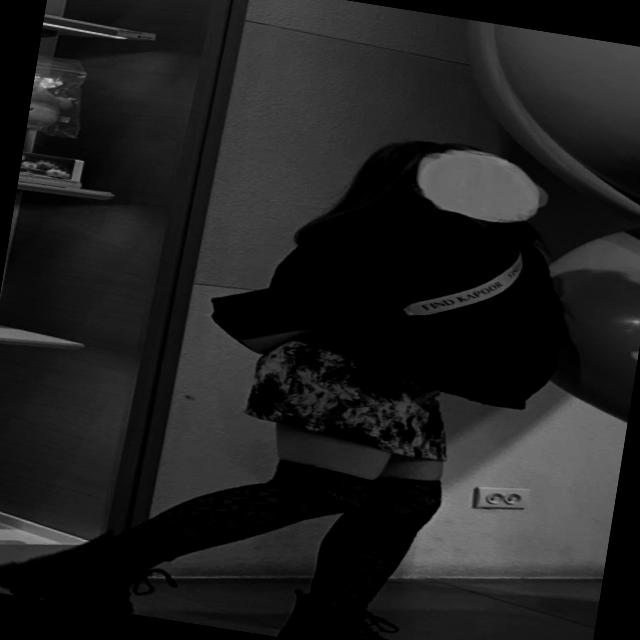padding: (253, 168, 592, 420)
skirt: (242, 333, 460, 462)
